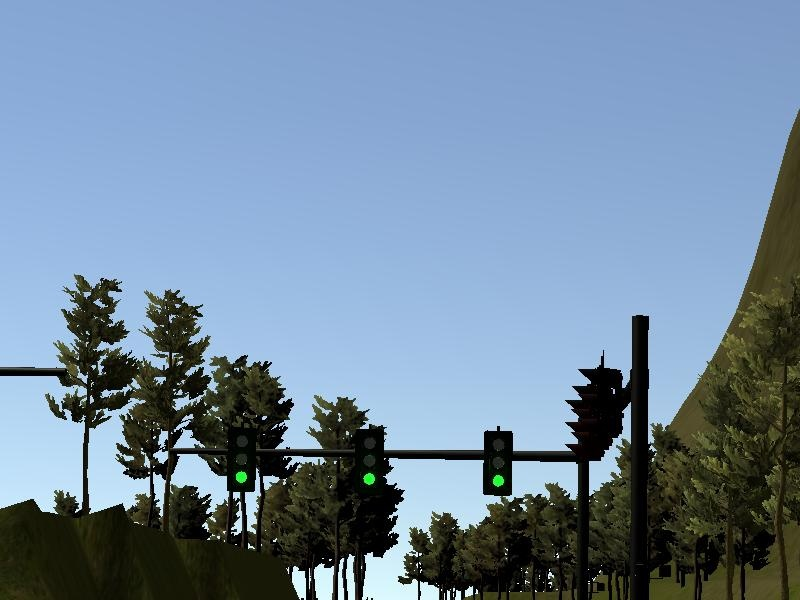GREEN: (483, 432, 514, 495), (228, 427, 255, 491), (356, 431, 382, 494)
